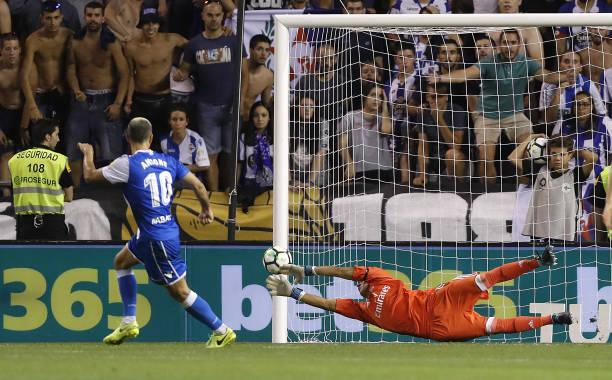Goalkeeper: (267, 244, 571, 341)
Player: (79, 117, 235, 347)
ball: (262, 246, 293, 273)
